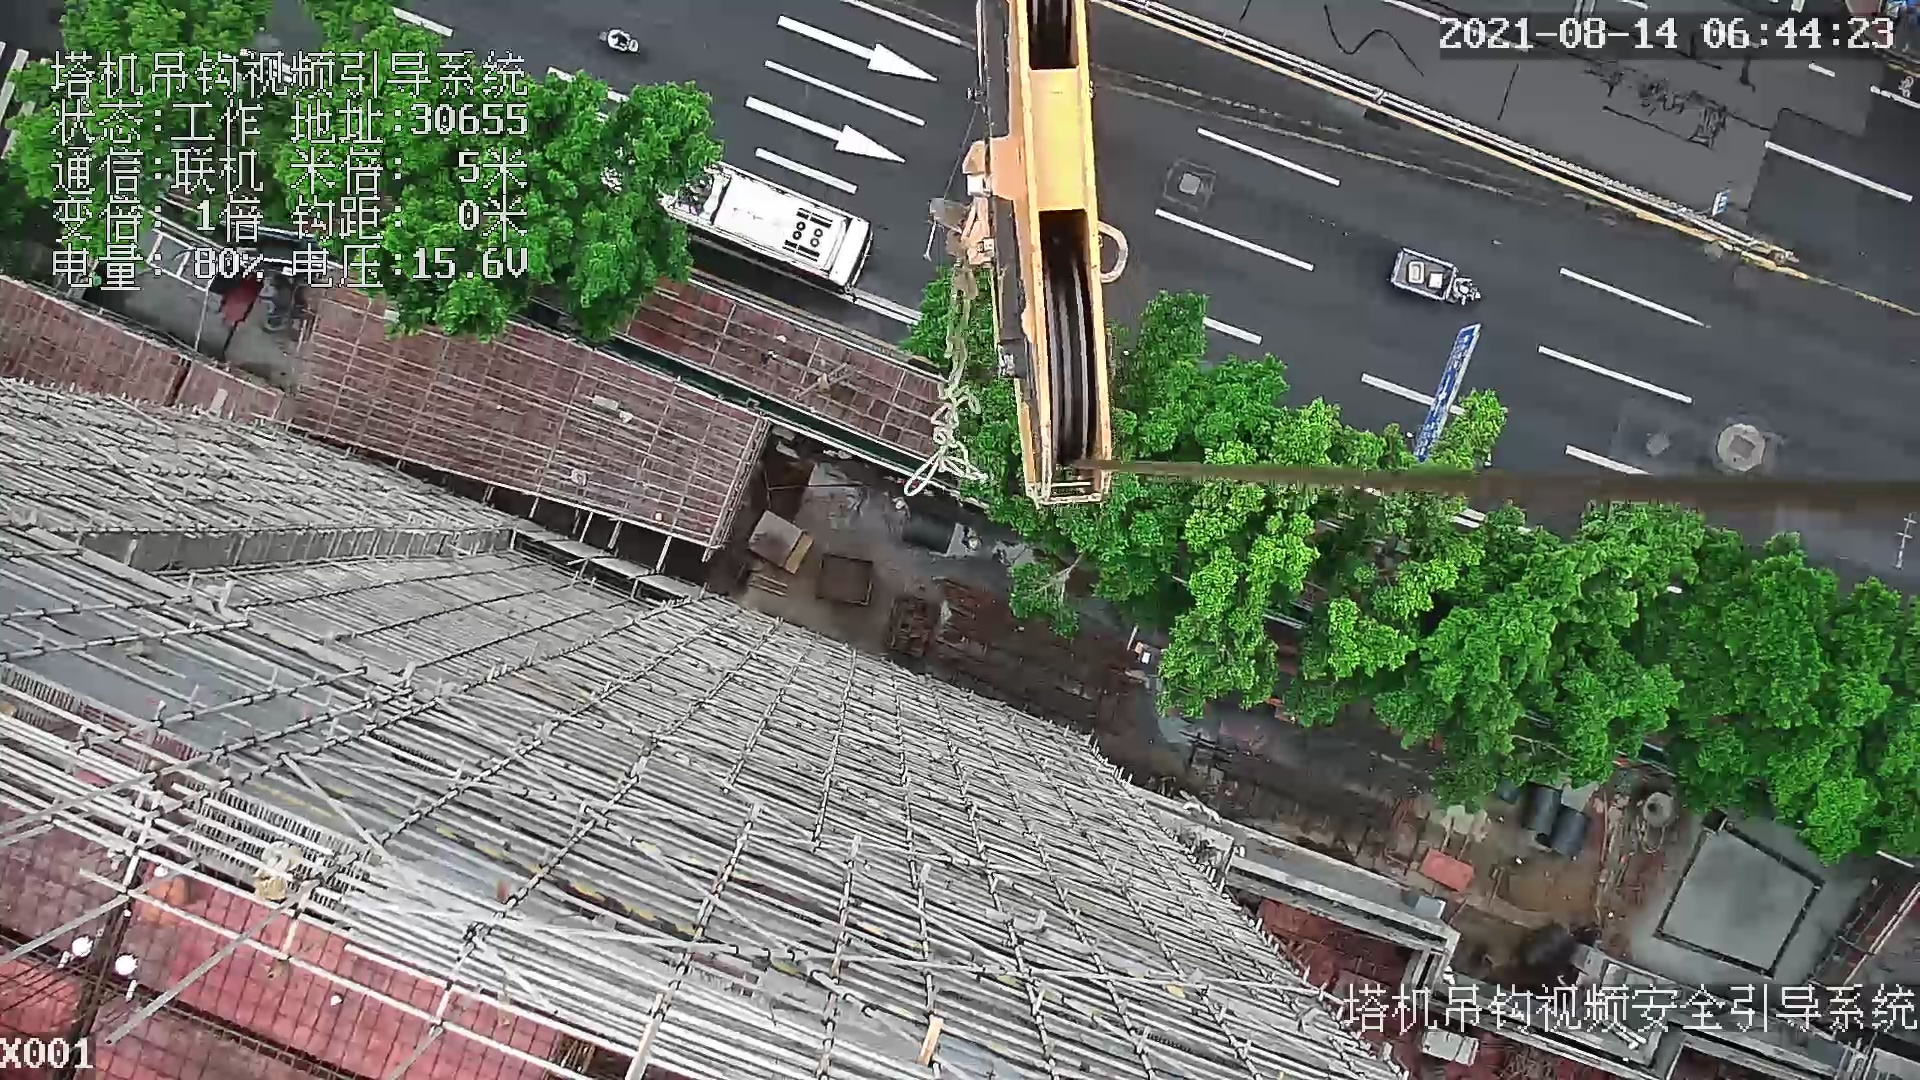hook: (913, 6, 1128, 514)
person: (890, 493, 914, 518)
